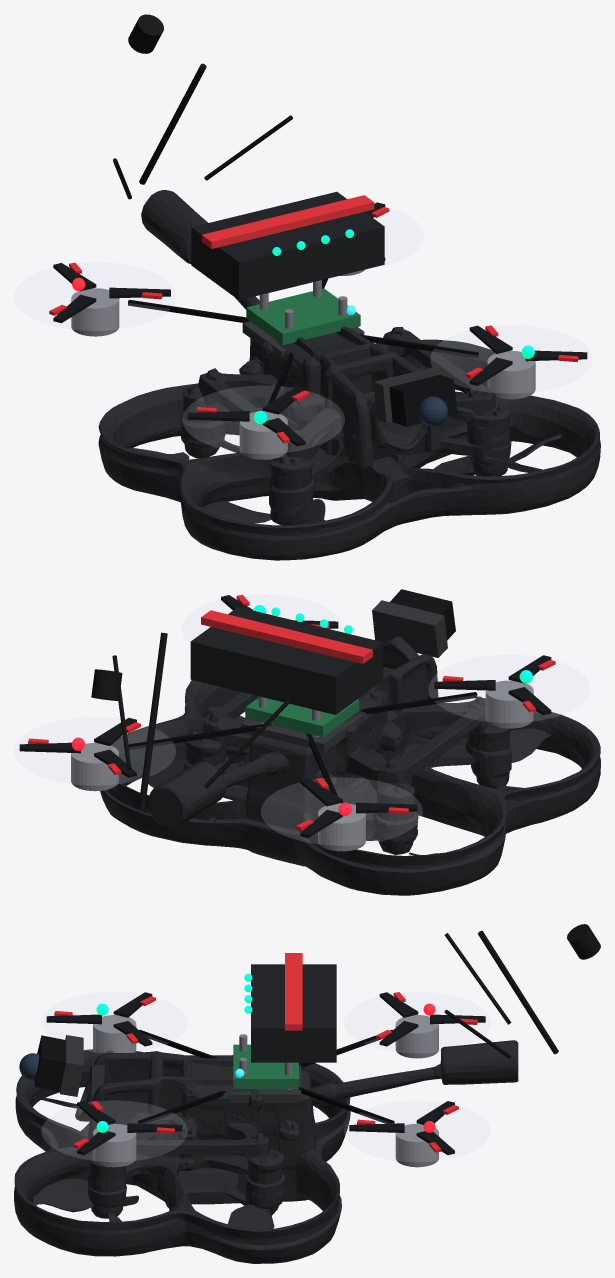
Rendered from mavlab_fpv_drone_refined.glb.
The picture shows the model from 3 angles, top to bottom: view 1: azimuth 30°, elevation 25°; view 2: azimuth 150°, elevation 25°; view 3: azimuth 270°, elevation 25°; orthographic projection. The views are drawn at different scales.
Visible parts, largest first — view 1: Body_ImportedFusedVisual, Battery_Body, PropBlur_RL, PropBlur_FL, PropBlur_FR, FC_Board, BatteryStrap, FPVCamera_Body, MotorHousing_RL, MotorHousing_FR, MotorHousing_FL, PropBlur_RR (+9 smaller); view 2: Body_ImportedFusedVisual, Battery_Body, PropBlur_FL, PropBlur_RL, PropBlur_RR, CameraMount_Bracket, BatteryStrap, PropBlur_FR, FC_Board, MotorHousing_FL, MotorHousing_RR, MotorHousing_RL (+11 smaller); view 3: Body_ImportedFusedVisual, Battery_Body, PropBlur_RR, PropBlur_FR, PropBlur_RL, PropBlur_FL, FC_Board, MotorHousing_RL, FPVCamera_Body, MotorHousing_FR, BatteryStrap, MotorHousing_RR (+13 smaller).
Boxes of the visible parts, box(x1,y1,x2,y2) form: Body_ImportedFusedVisual: box(98, 190, 600, 560); Battery_Body: box(191, 191, 384, 300); PropBlur_RL: box(14, 263, 175, 330); PropBlur_FL: box(183, 386, 344, 453); PropBlur_FR: box(431, 325, 592, 392); FC_Board: box(246, 288, 360, 344); BatteryStrap: box(201, 195, 374, 248); FPVCamera_Body: box(389, 374, 457, 426); MotorHousing_RL: box(71, 288, 119, 336); MotorHousing_FR: box(487, 351, 535, 399); MotorHousing_FL: box(239, 411, 287, 459); PropBlur_RR: box(374, 208, 423, 266); Body_ImportedFusedVisual: box(100, 636, 600, 895); Battery_Body: box(190, 607, 383, 714); PropBlur_FL: box(429, 655, 589, 722); PropBlur_RL: box(261, 778, 422, 845); PropBlur_RR: box(14, 717, 175, 784); CameraMount_Bracket: box(372, 600, 447, 657); BatteryStrap: box(201, 610, 372, 663); PropBlur_FR: box(182, 595, 342, 642); FC_Board: box(245, 698, 359, 737); MotorHousing_FL: box(485, 680, 533, 728); MotorHousing_RR: box(71, 743, 118, 791); MotorHousing_RL: box(318, 803, 365, 851); Body_ImportedFusedVisual: box(14, 1040, 518, 1263); Battery_Body: box(251, 964, 336, 1062); PropBlur_RR: box(345, 1101, 489, 1161); PropBlur_FR: box(42, 1101, 187, 1161); PropBlur_RL: box(345, 992, 489, 1052); PropBlur_FL: box(42, 992, 187, 1052); FC_Board: box(233, 1044, 298, 1088); MotorHousing_RL: box(395, 1015, 438, 1058); FPVCamera_Body: box(34, 1035, 65, 1091); MotorHousing_FR: box(93, 1123, 136, 1167); BatteryStrap: box(285, 953, 302, 1030); MotorHousing_RR: box(395, 1123, 438, 1167).
Bounding box in the file's own units: 0.8207 × 0.5961 × 1.16.
